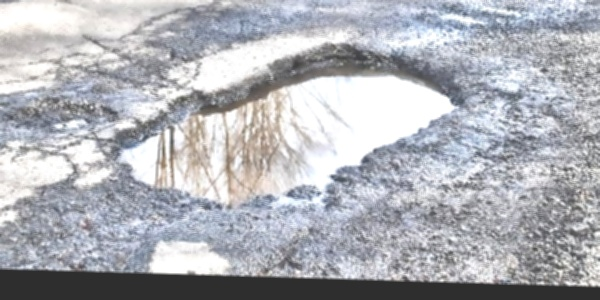pothole: (105, 33, 468, 217), (0, 91, 118, 134)
